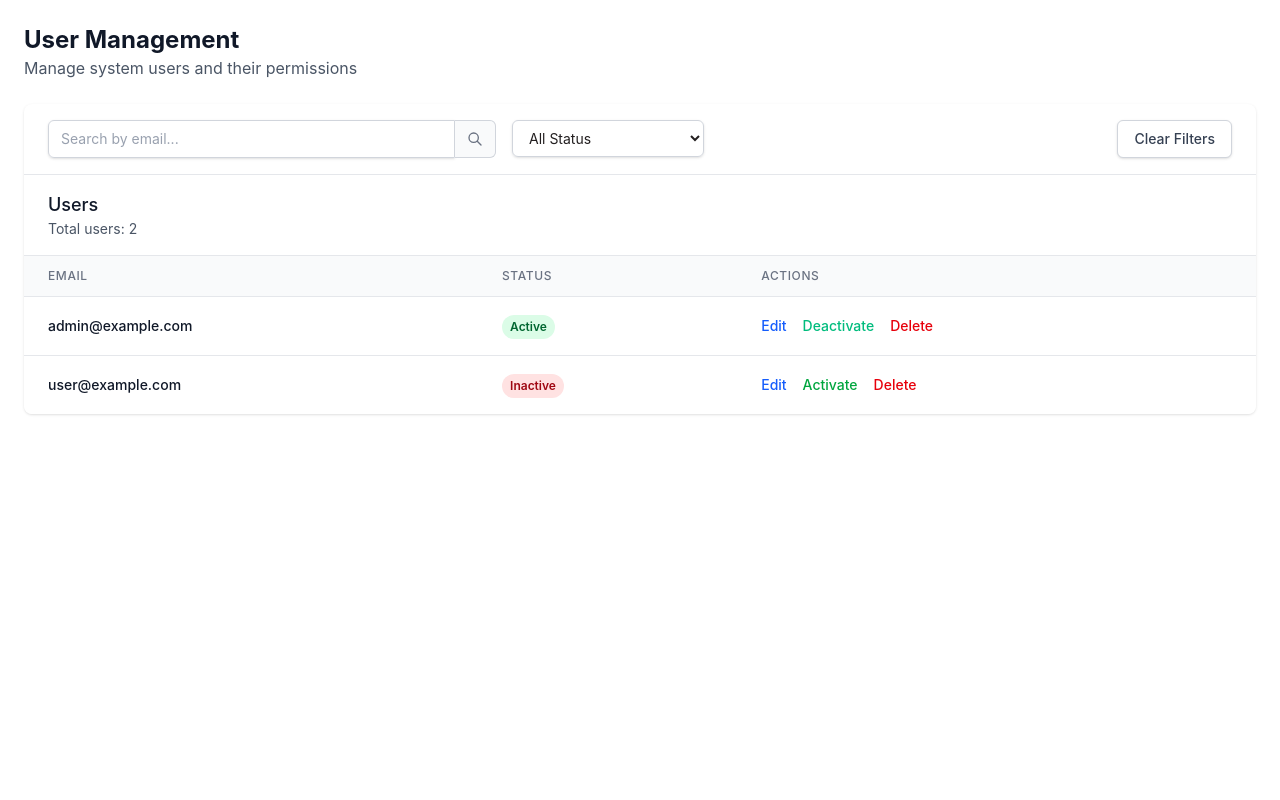
it: UserManagement › should show delete confirmation dialog when delete button is clicked
This screenshot has width=1280, height=800.
Check: the text "admin@example.com" is shown, box [24, 296, 478, 356]
Click the button "Delete" in the row of "admin@example.com" at (912, 326), box [890, 316, 933, 336]
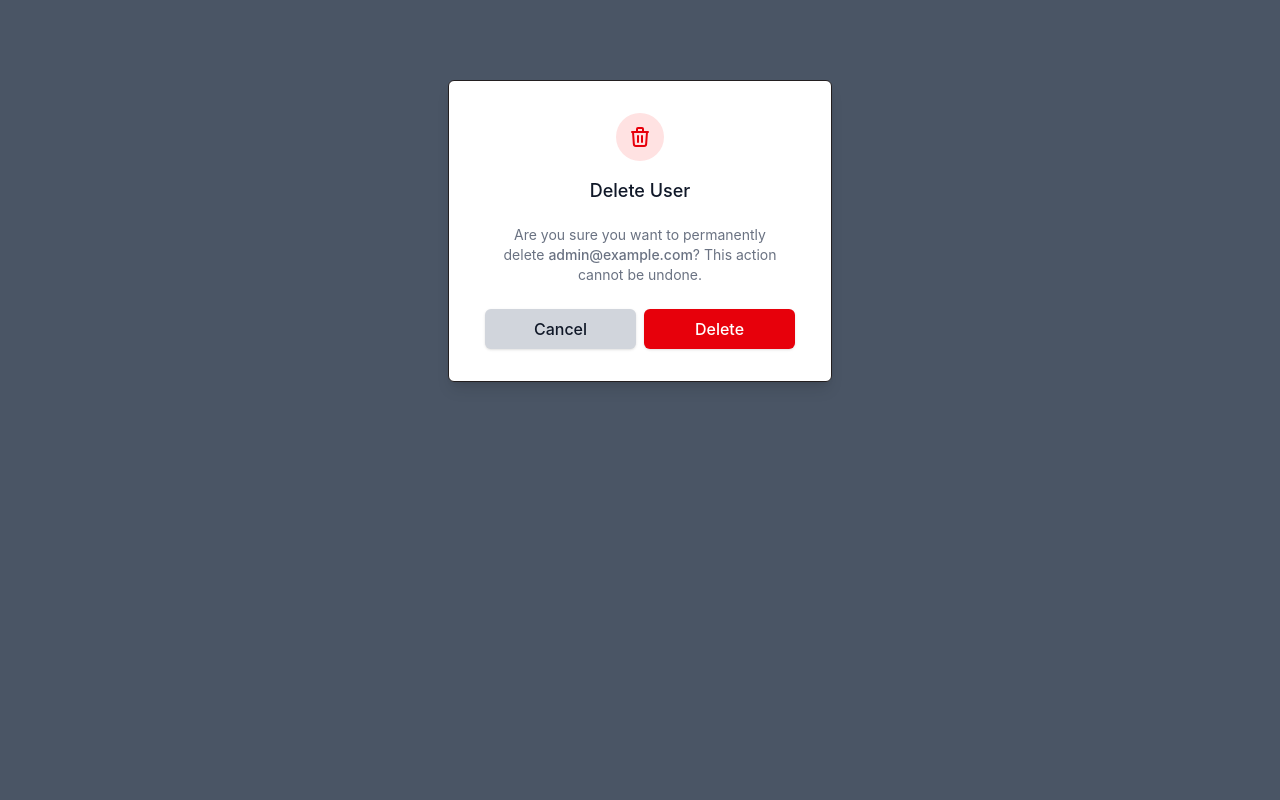
Check: the heading "Delete User" is shown, box [590, 180, 690, 201]
Check: the button "Cancel" is shown, box [485, 309, 636, 349]
